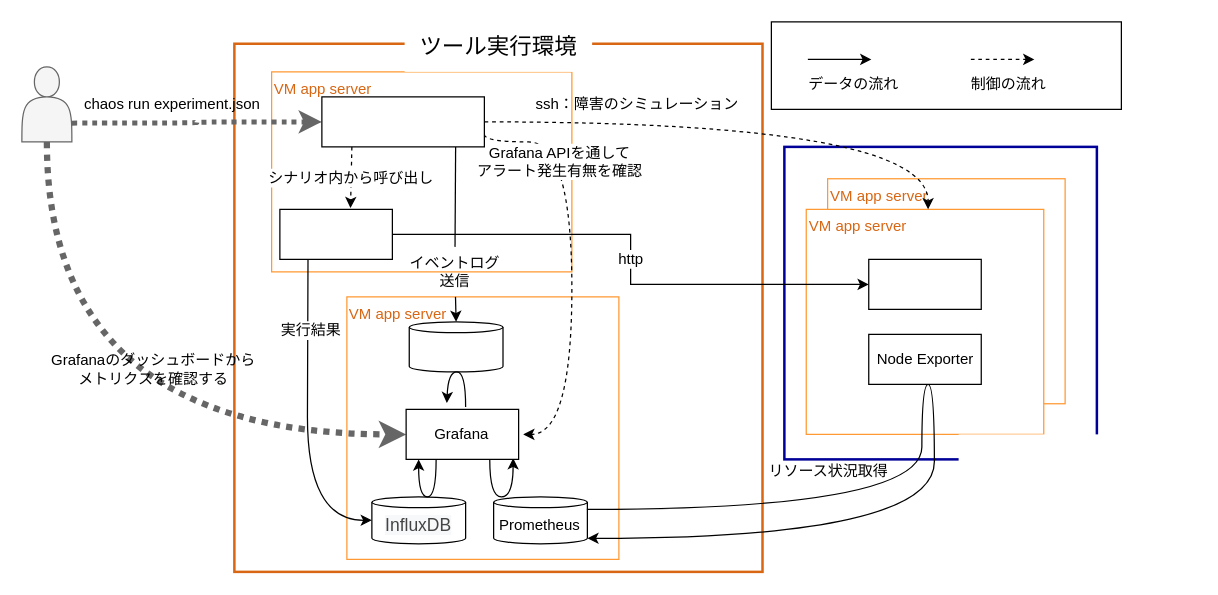
This 1218x595 diagram has some shape labels left out. The shapes that lost their labels are listed below. From the top down, each one's centre as x and y in pixels, then its label:
At pixel 402 121: "Chaos Toolkit".
At pixel 335 233: "JMeter".
At pixel 924 283: "application".
At pixel 455 346: "Grafana Loki".
At pixel 1077 459: "実験対象のシステム".
